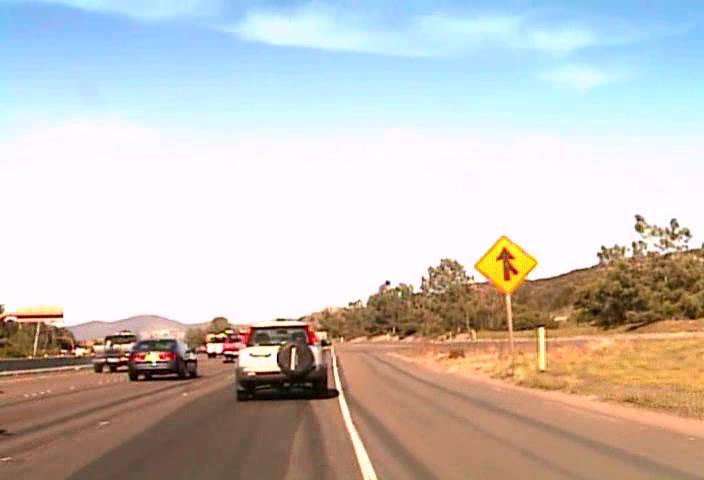merge: (473, 234, 538, 295)
